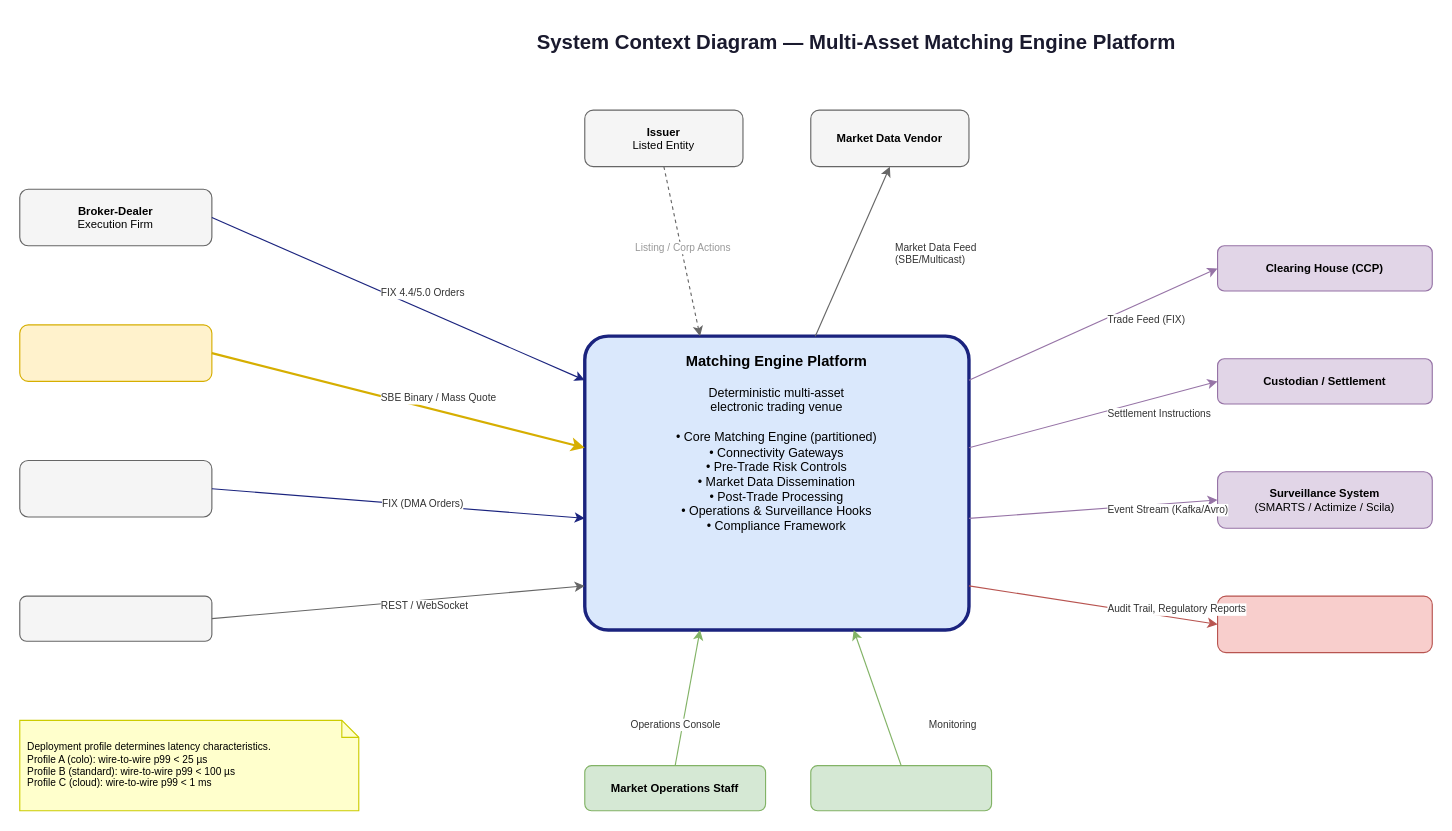
Some shapes in this 1452 by 831 pixel diagram are drawn without their labels. The shapes that lost their labels are listed below. From the top down, each one's centre as x and y in pixels, then its label:
the point at 115,352: Market Maker Liquidity Provider
the point at 115,488: Buy-Side (DMA) Asset Mgr / Hedge Fund
the point at 115,618: Retail Intermediary
the point at 1324,624: Regulator / Supervisor SEC, ESMA NCA, MAS
the point at 901,787: SRE / Infrastructure Team
